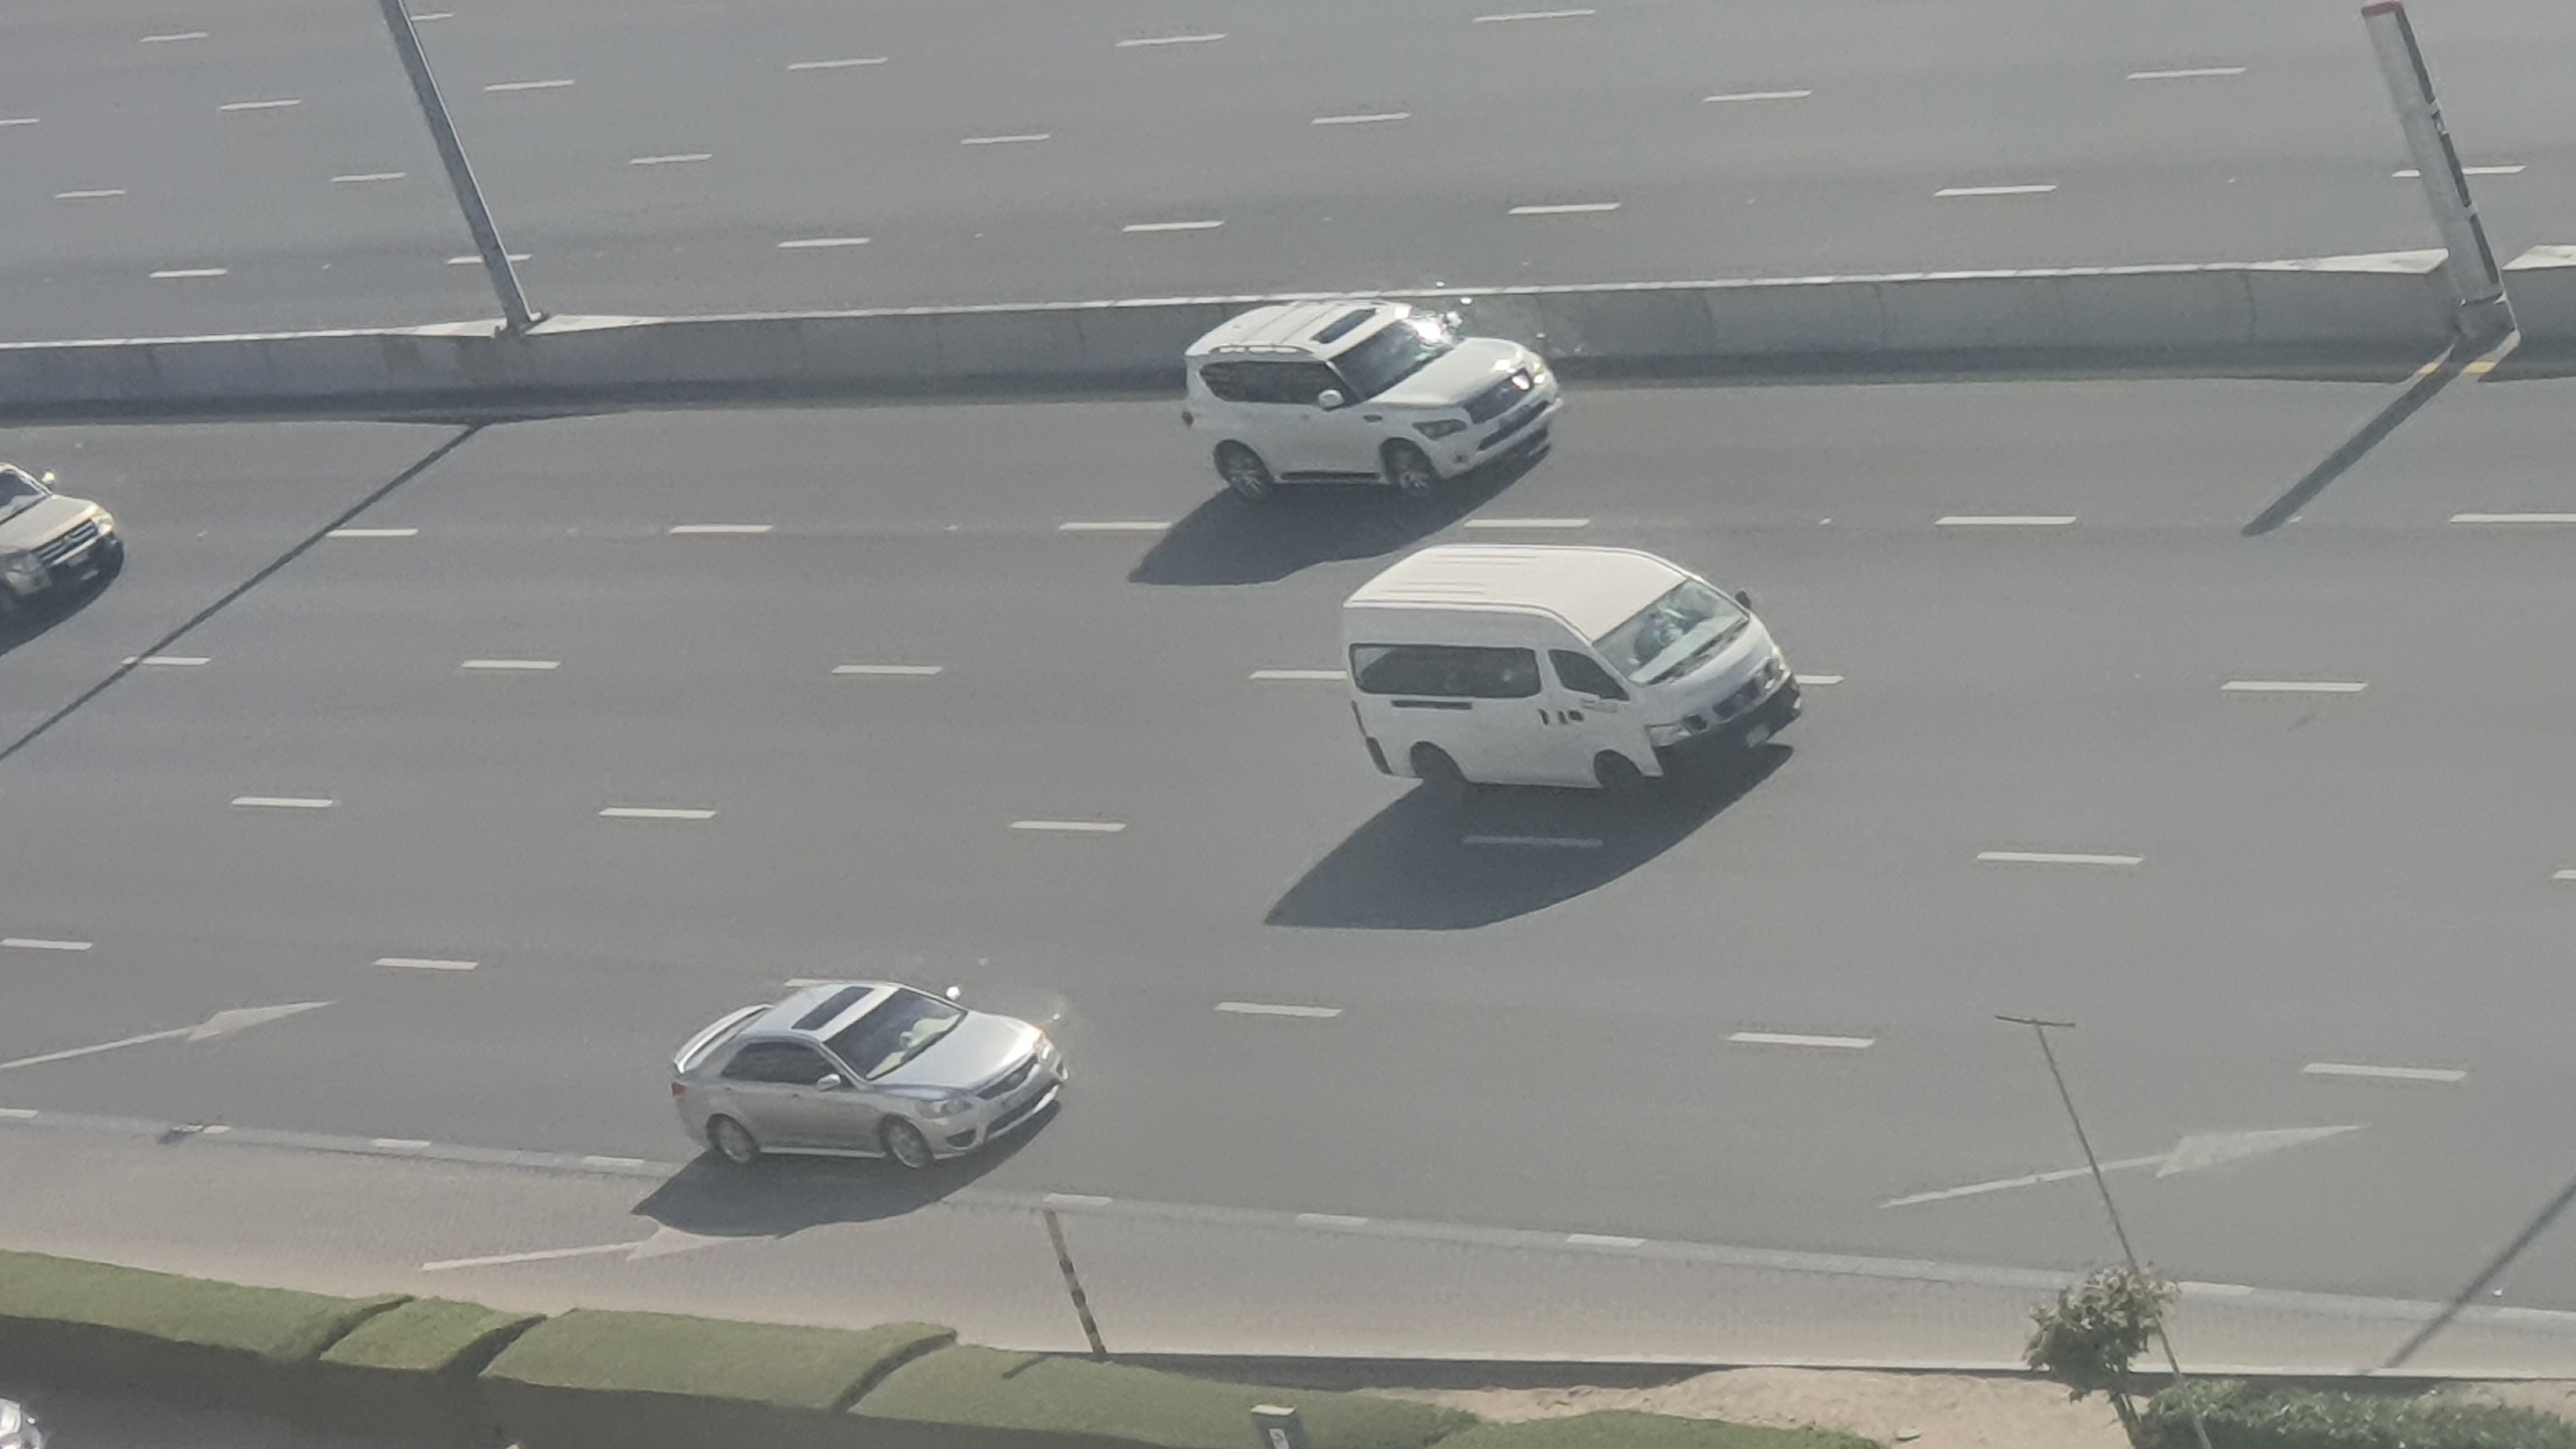Sunroof: (1175, 299, 1566, 515), (669, 978, 1069, 1182)
